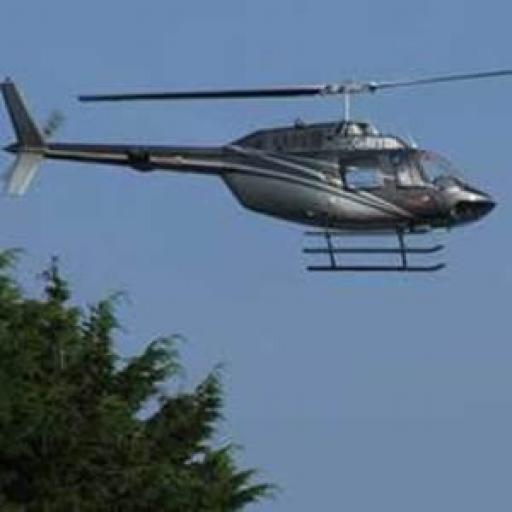helicopter: (4, 63, 508, 279)
